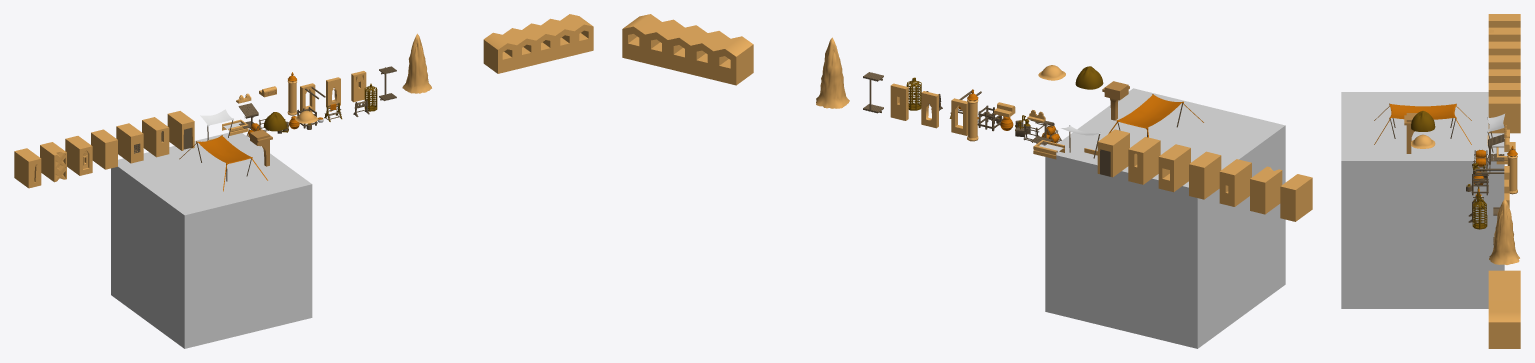
The model's file is popmovie.fbx.
3 renders of one model, left to right at view 1: azimuth 30°, elevation 25°; view 2: azimuth 150°, elevation 25°; view 3: azimuth 270°, elevation 25°, orthographic. The views are drawn at different scales.
Parts seen in each view (by area): view 1: Cube, muralla pa lejos, poste de piedra, carpita pobre big, pared decorada, ventana flaca, ventana simple, decorada 3, puerta pobre, pared pobre, decorada 4, decorada 2; view 2: Cube, muralla pa lejos, poste de piedra, pared decorada, puerta pobre, ventana flaca, ventana simple, decorada 3, pared pobre, decorada 4, carpita pobre big, decorada 2 (+3 smaller); view 3: Cube, muralla pa lejos, poste de piedra, puerta pobre, carpita pobre big, pared pobre, decorada 4, decorada 3, ventana simple, ventana flaca, pared decorada, chimenea (+8 smaller).
Boxes of the visible parts, x1,y1,x2,y2 form: Cube: (111, 132, 312, 348); muralla pa lejos: (483, 14, 593, 73); poste de piedra: (402, 33, 431, 93); carpita pobre big: (179, 135, 267, 191); pared decorada: (14, 148, 41, 188); ventana flaca: (142, 117, 169, 157); ventana simple: (116, 123, 143, 163); decorada 3: (65, 136, 92, 175); puerta pobre: (167, 111, 194, 150); pared pobre: (91, 129, 117, 169); decorada 4: (40, 142, 66, 182); decorada 2: (351, 71, 366, 102); Cube: (1045, 88, 1285, 348); muralla pa lejos: (622, 14, 753, 85); poste de piedra: (816, 37, 849, 108); pared decorada: (1280, 174, 1312, 221); puerta pobre: (1097, 129, 1129, 177); ventana flaca: (1128, 137, 1160, 184); ventana simple: (1158, 144, 1190, 192); decorada 3: (1219, 159, 1251, 206); pared pobre: (1189, 151, 1221, 199); decorada 4: (1250, 166, 1282, 214); carpita pobre big: (1108, 94, 1203, 137); decorada 2: (890, 83, 908, 120); Cube: (1341, 92, 1504, 308); muralla pa lejos: (1488, 270, 1520, 348); poste de piedra: (1489, 199, 1519, 264); puerta pobre: (1488, 96, 1520, 133); carpita pobre big: (1374, 103, 1471, 144); pared pobre: (1488, 55, 1520, 69); decorada 4: (1488, 27, 1520, 41); decorada 3: (1488, 41, 1520, 55); ventana simple: (1488, 69, 1520, 82); ventana flaca: (1488, 83, 1520, 96); pared decorada: (1488, 14, 1520, 27); chimenea: (1507, 146, 1517, 194).
Bounding box in the file's own units: 4425 × 1398 × 1098.
